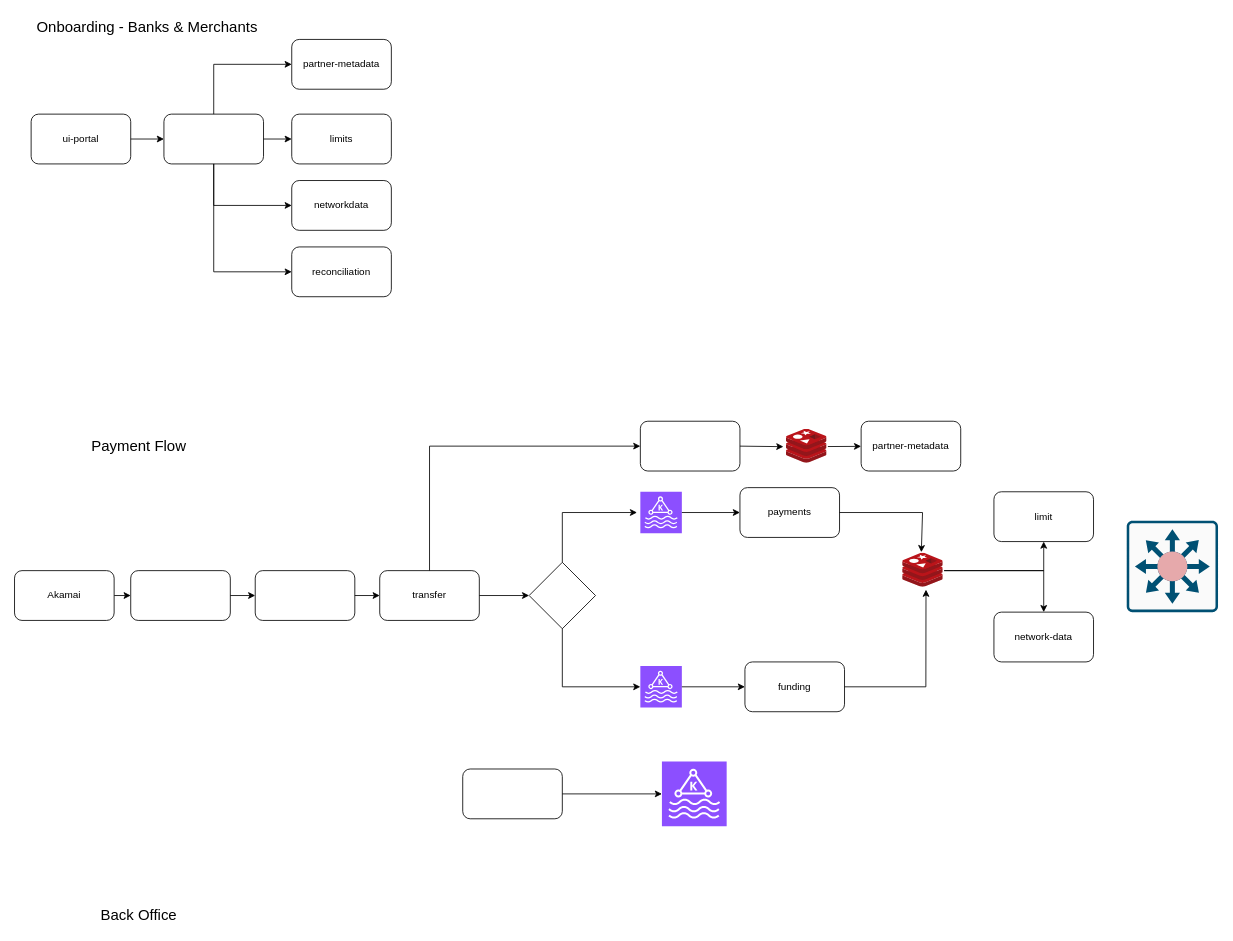
The diagram is 1233 pixels wide and 941 high, and some of its shapes have lost their labels. The shapes that lost their labels are listed below. From the top down, each one's box as (x1, y1, x2, y2) in pixels, then its label:
(163, 113, 264, 164): portal-bff
(640, 420, 740, 471): account-validation
(130, 570, 230, 620): F5
(254, 570, 355, 620): API-Gateway
(528, 561, 596, 629): transaction type
(462, 768, 562, 819): core-exception-manager
